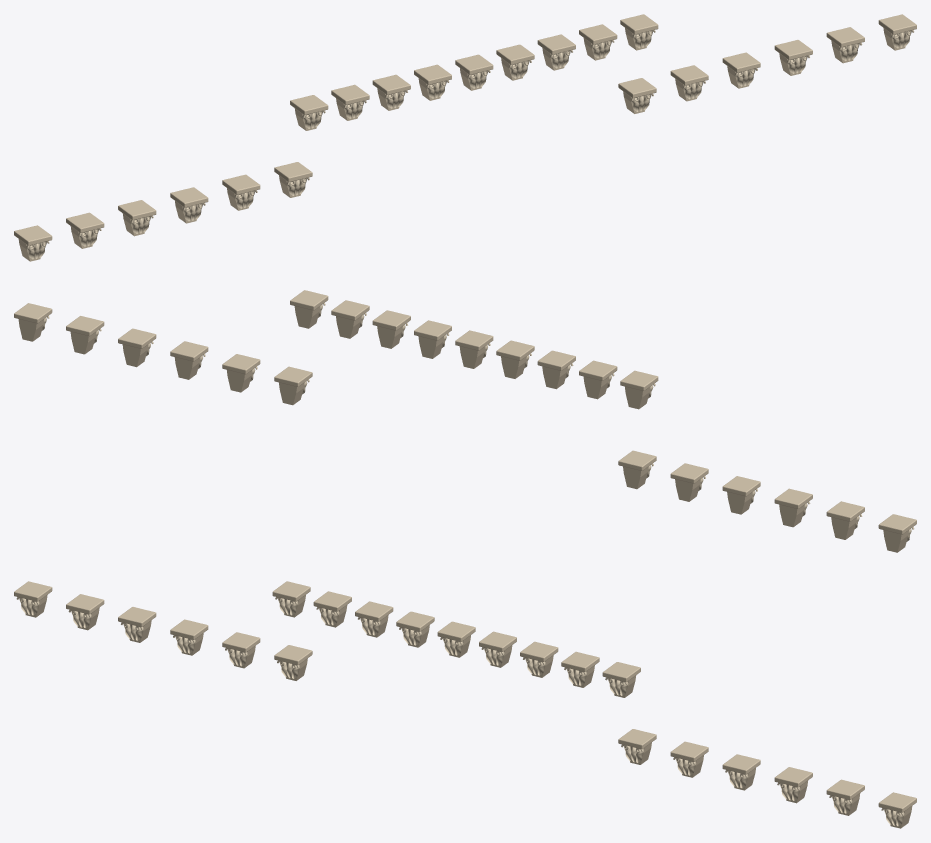
File: altar-corbels.glb
3 renders of one model, top to bottom at view 1: azimuth 30°, elevation 25°; view 2: azimuth 150°, elevation 25°; view 3: azimuth 330°, elevation 25°, orthographic.
Parts seen in each view (by area): view 1: CORBEL_C_1_abacus, CORBEL_C_7_abacus, CORBEL_L_0_abacus, CORBEL_L_4_abacus, CORBEL_R_2_abacus, CORBEL_R_5_abacus, CORBEL_C_2_abacus, CORBEL_C_4_abacus, CORBEL_C_5_abacus, CORBEL_C_6_abacus, CORBEL_C_0_abacus, CORBEL_C_8_abacus (+9 smaller); view 2: no part large enough to name; view 3: CORBEL_C_1_abacus, CORBEL_C_7_abacus, CORBEL_L_0_abacus, CORBEL_L_3_abacus, CORBEL_R_1_abacus, CORBEL_R_5_abacus, CORBEL_C_2_abacus, CORBEL_C_3_abacus, CORBEL_C_4_abacus, CORBEL_C_6_abacus, CORBEL_C_0_abacus, CORBEL_C_8_abacus (+9 smaller).
Boxes of the visible parts, <box> form: CORBEL_C_1_abacus: <box>331,84,369,104</box>; CORBEL_C_7_abacus: <box>579,24,617,44</box>; CORBEL_L_0_abacus: <box>14,225,52,245</box>; CORBEL_L_4_abacus: <box>222,174,260,194</box>; CORBEL_R_2_abacus: <box>722,52,760,72</box>; CORBEL_R_5_abacus: <box>878,14,916,34</box>; CORBEL_C_2_abacus: <box>372,74,410,94</box>; CORBEL_C_4_abacus: <box>455,54,493,74</box>; CORBEL_C_5_abacus: <box>496,44,534,64</box>; CORBEL_C_6_abacus: <box>537,34,575,54</box>; CORBEL_C_0_abacus: <box>290,95,328,115</box>; CORBEL_C_8_abacus: <box>620,14,658,34</box>; CORBEL_C_1_abacus: <box>313,591,351,611</box>; CORBEL_C_7_abacus: <box>561,651,599,671</box>; CORBEL_L_0_abacus: <box>14,581,52,601</box>; CORBEL_L_3_abacus: <box>170,619,208,639</box>; CORBEL_R_1_abacus: <box>670,741,708,761</box>; CORBEL_R_5_abacus: <box>878,792,916,812</box>; CORBEL_C_2_abacus: <box>355,601,393,621</box>; CORBEL_C_3_abacus: <box>396,611,434,631</box>; CORBEL_C_4_abacus: <box>437,621,475,641</box>; CORBEL_C_6_abacus: <box>520,641,558,661</box>; CORBEL_C_0_abacus: <box>272,581,310,601</box>; CORBEL_C_8_abacus: <box>602,662,640,682</box>.
Bounding box in the file's own units: 7.82 × 0.8187 × 0.3576.
